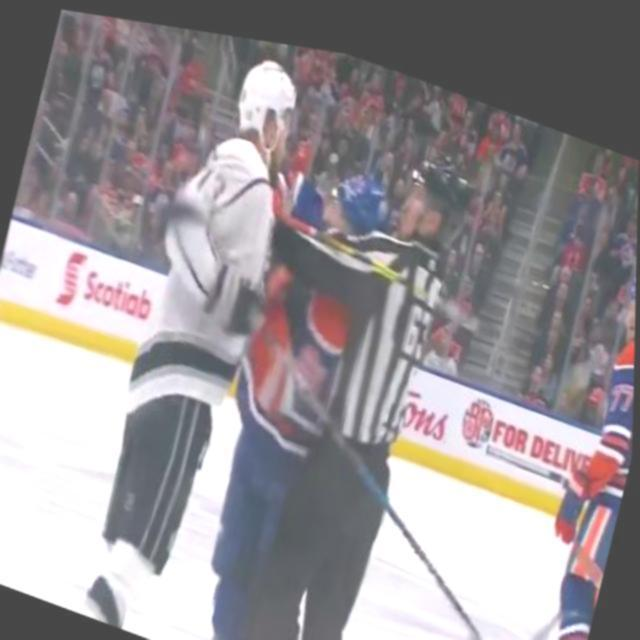fight: (128, 16, 479, 468)
